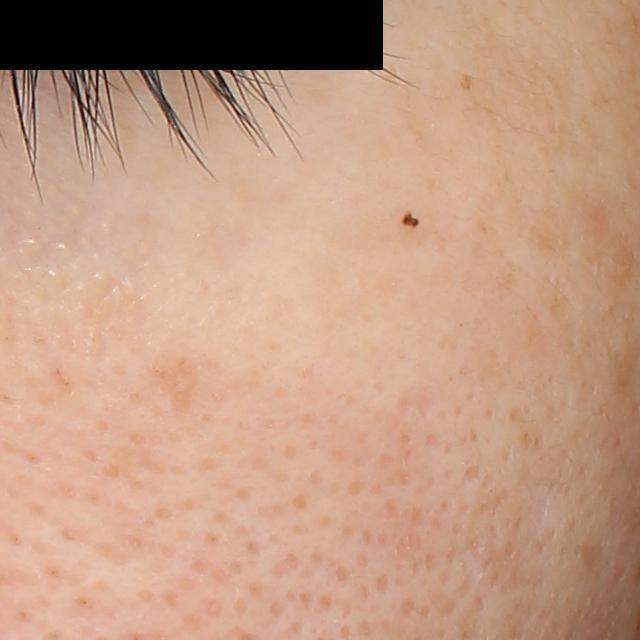melasma: (149, 353, 196, 415), (520, 217, 575, 260), (605, 230, 638, 293), (459, 75, 475, 92)
nevus: (401, 209, 420, 228)
